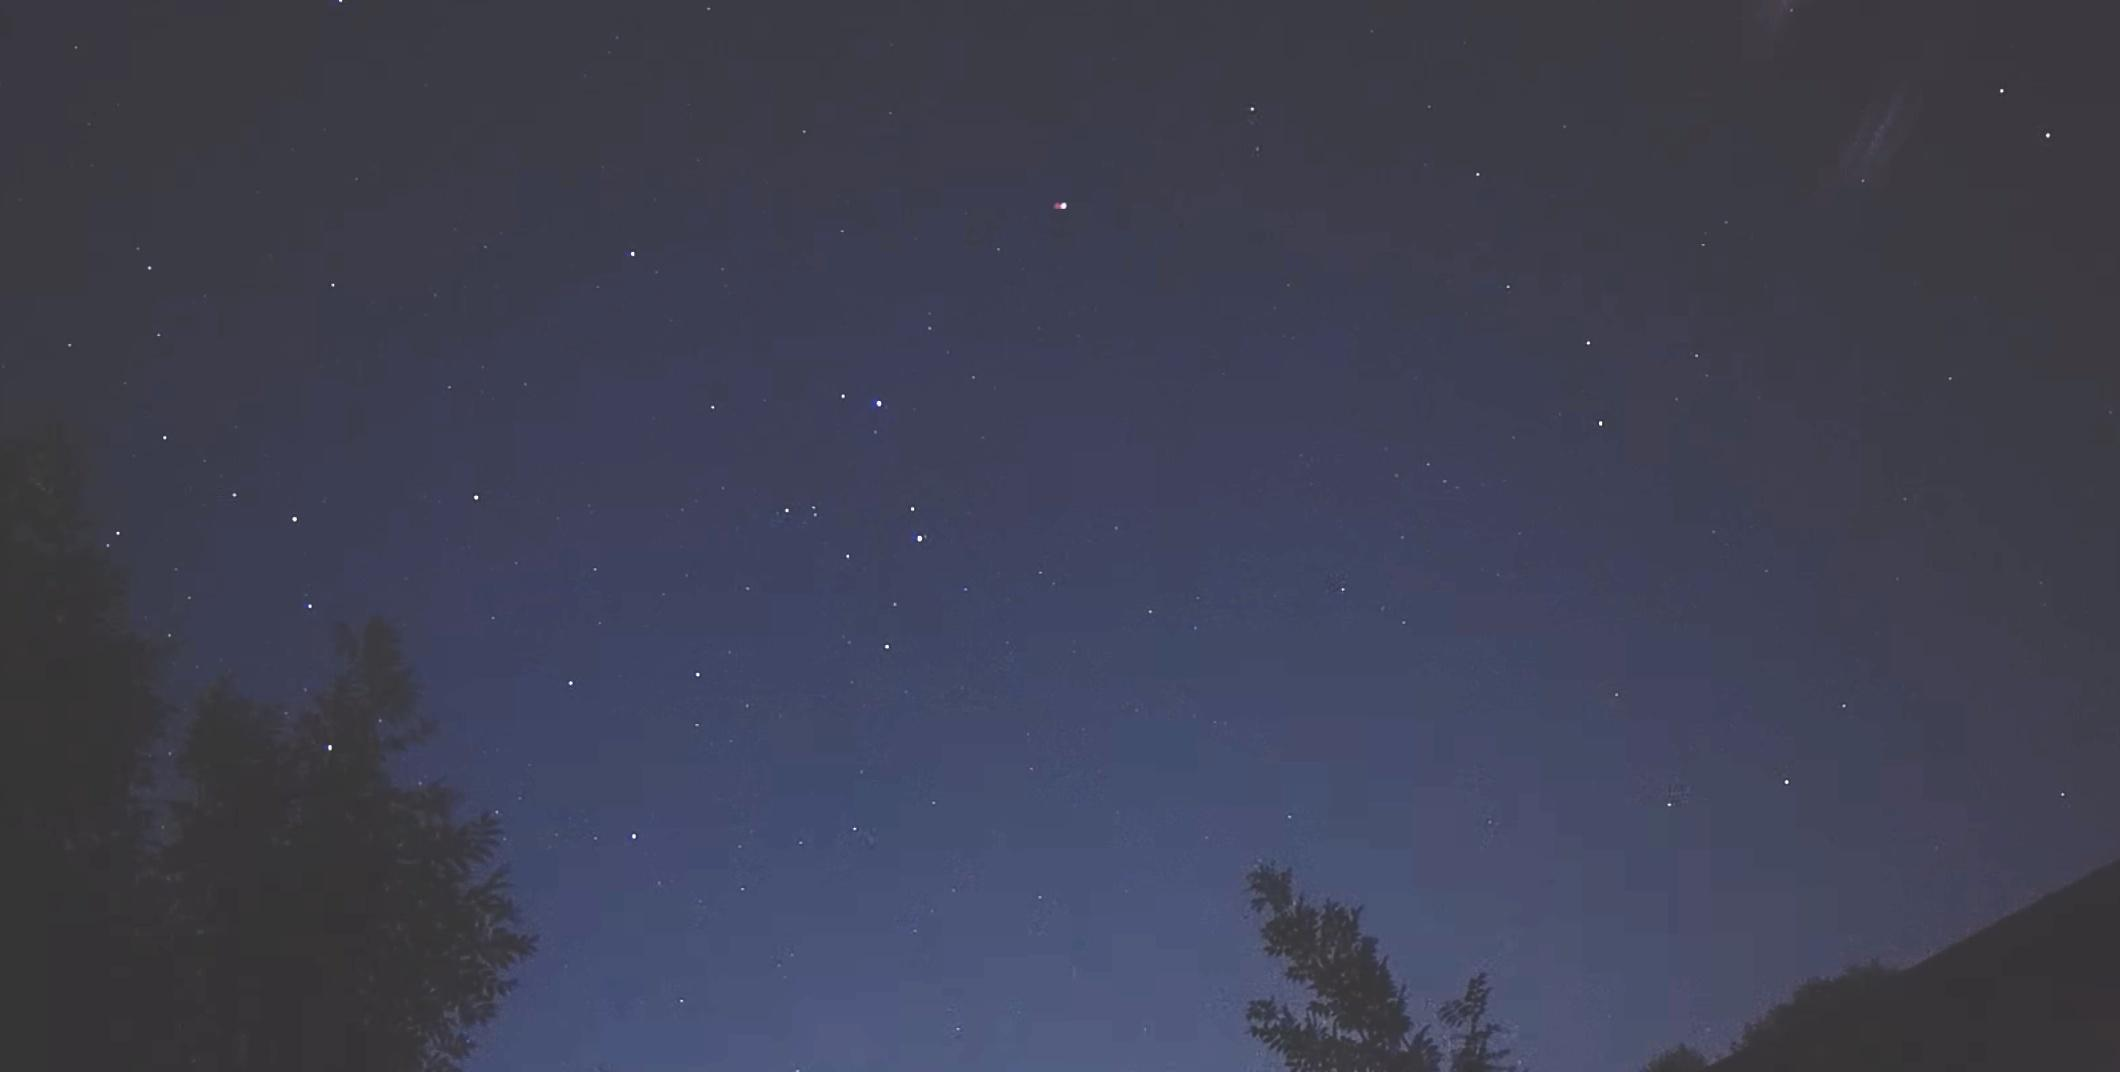Plane: (1031, 187, 1091, 220)
